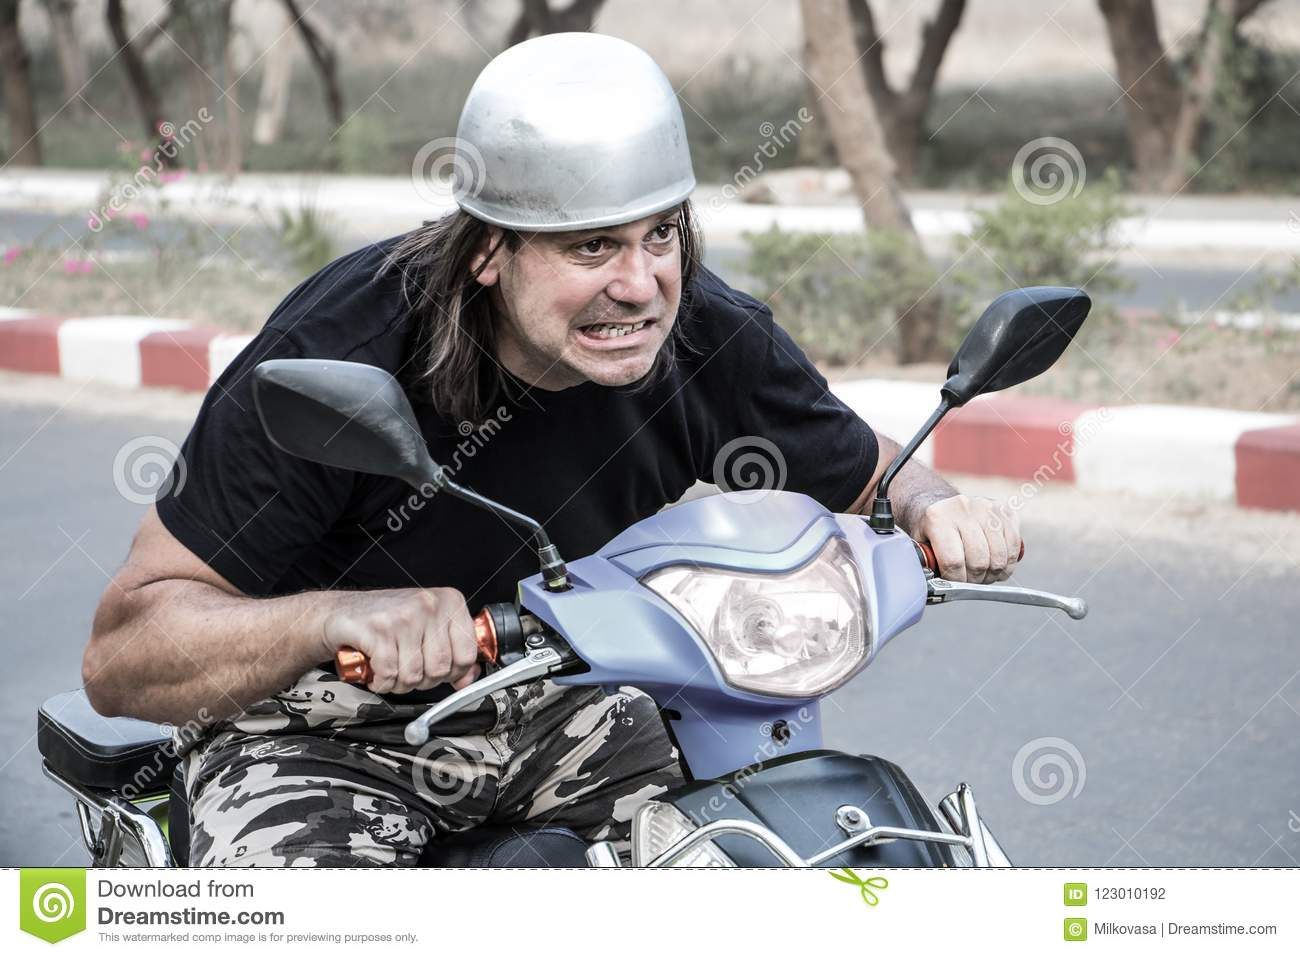helmet: (454, 16, 718, 230)
